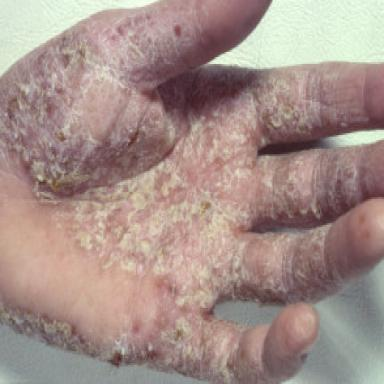eczema: (0, 1, 384, 381)
